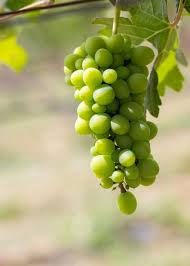grapes: (67, 30, 167, 225)
